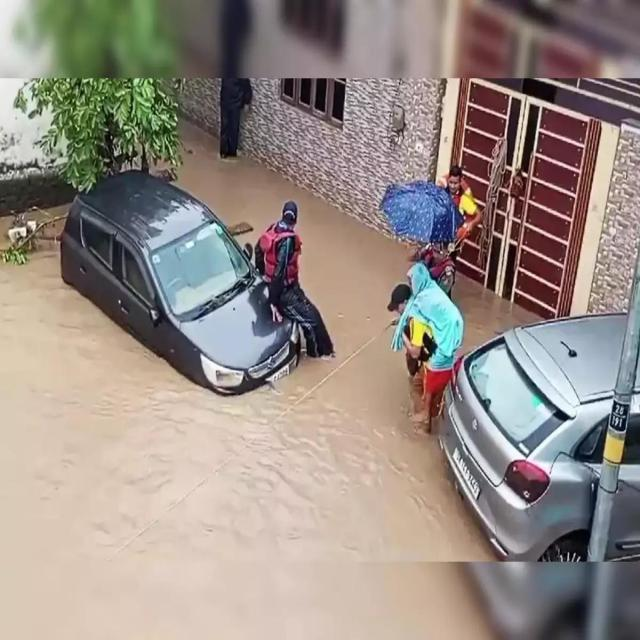water: (0, 117, 500, 639), (453, 275, 545, 354)
